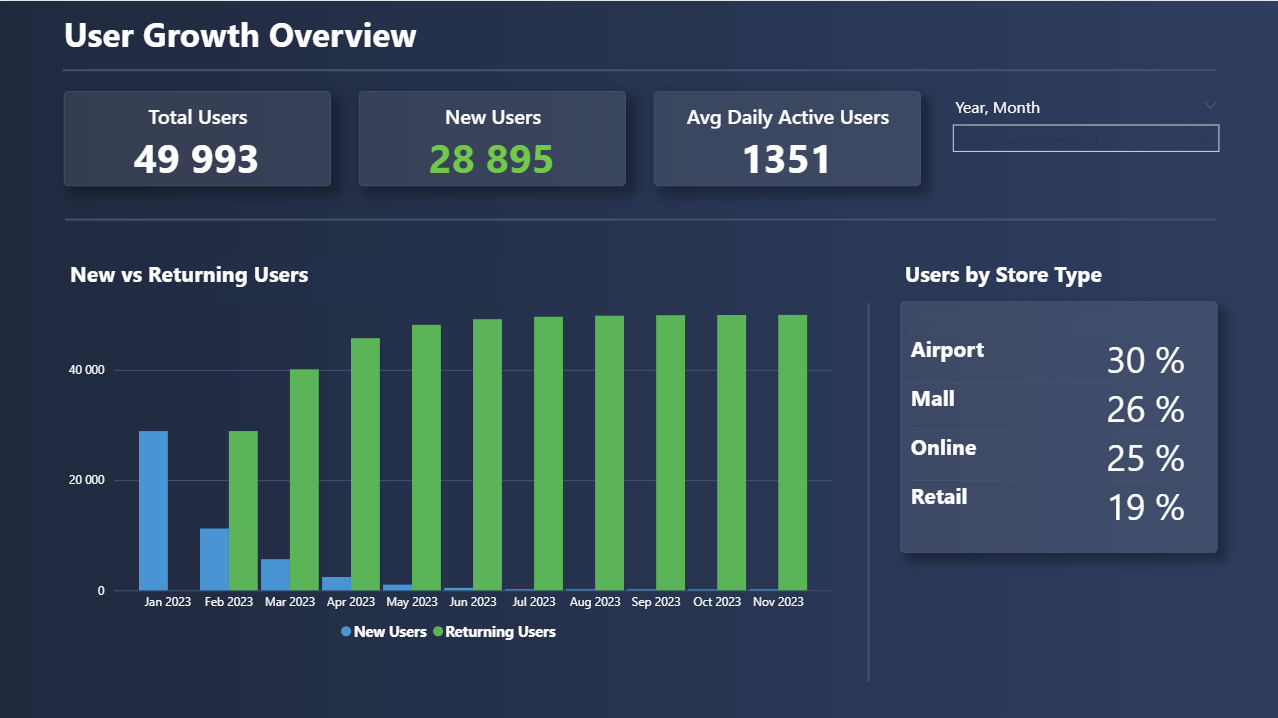

The dashboard page shown, as its layout file describes it:
{"tool":"powerbi","page":{"name":"User Growth Overview ","canvas":[1280,720],"ordinal":3},"visuals":[{"type":"card","title":"Total Users","fields":{"Values":["_Measures.Total Users"]},"box":[63.2,90,266.9,95],"z":0,"group":"g2"},{"type":"group","id":"g1","title":"Группа 2","box":[942,90,286.9,94.8],"z":0},{"type":"slicer","fields":{"Values":["Calendar.Year","Calendar.Month"]},"box":[942,90,286.9,94.8],"z":0,"group":"g1"},{"type":"shape","title":"Retention Heatmap","box":[63.5,0,1153,65.1],"z":1000},{"type":"card","title":"New Users","fields":{"Values":["_Measures.New Users"]},"box":[358.3,90,266.9,95.3],"z":1000,"group":"g2"},{"type":"card","title":"Avg Daily Active Users","fields":{"Values":["_Measures.DAU Chart"]},"box":[653.3,90,266.9,95.3],"z":2000,"group":"g2"},{"type":"textbox","box":[899.7,252.9,297.9,48.6],"z":2000},{"type":"shape","box":[64.4,212.8,1151.4,12.2],"z":3000},{"type":"textbox","box":[64.4,252.9,604.3,48.6],"z":4000},{"type":"shape","box":[62.7,65.1,1153.4,8.4],"z":5000},{"type":"group","id":"g2","title":"Група 2","box":[63.2,90,855.9,94.8],"z":6000},{"type":"clusteredColumnChart","title":"Retention Rate by Cohort","fields":{"Category":["Calendar.MonthYear1"],"Y":["_Measures.New Users","_Measures.Returning Users"]},"box":[63.2,300,773.3,350.2],"z":6000,"group":"g3"},{"type":"shape","box":[862,302.7,12.2,378.1],"z":7000},{"type":"group","id":"g3","title":"Група 1","box":[63.2,300,773.3,350.2],"z":8000},{"type":"pivotTable","fields":{"Rows":["customer_metrics.store_type"],"Values":["_Measures.% Users by Store Type"]},"box":[899.7,300.3,317.3,251.7],"z":9000}]}

Visuals, with their boxes in screenshot pixels (x1, y1, x2, y2), scaled from the page's 1280x720 canvas onto the 1278x718 screenshot:
"Total Users" card: {"left": 63, "top": 90, "right": 330, "bottom": 184}
"Группа 2" group: {"left": 941, "top": 90, "right": 1227, "bottom": 184}
slicer - Calendar.Year x Calendar.Month: {"left": 941, "top": 90, "right": 1227, "bottom": 184}
"Retention Heatmap" shape: {"left": 63, "top": 0, "right": 1215, "bottom": 65}
"New Users" card: {"left": 358, "top": 90, "right": 624, "bottom": 185}
"Avg Daily Active Users" card: {"left": 652, "top": 90, "right": 919, "bottom": 185}
textbox: {"left": 898, "top": 252, "right": 1196, "bottom": 301}
shape: {"left": 64, "top": 212, "right": 1214, "bottom": 224}
textbox: {"left": 64, "top": 252, "right": 668, "bottom": 301}
shape: {"left": 63, "top": 65, "right": 1214, "bottom": 73}
"Група 2" group: {"left": 63, "top": 90, "right": 918, "bottom": 184}
"Retention Rate by Cohort" clusteredColumnChart: {"left": 63, "top": 299, "right": 835, "bottom": 648}
shape: {"left": 861, "top": 302, "right": 873, "bottom": 679}
"Група 1" group: {"left": 63, "top": 299, "right": 835, "bottom": 648}
pivotTable - customer_metrics.store_type x _Measures.% Users by Store Type: {"left": 898, "top": 299, "right": 1215, "bottom": 550}
